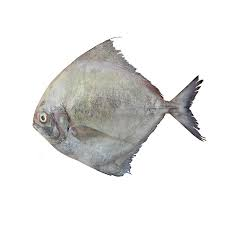Ikan Bawal: (29, 40, 204, 179)
